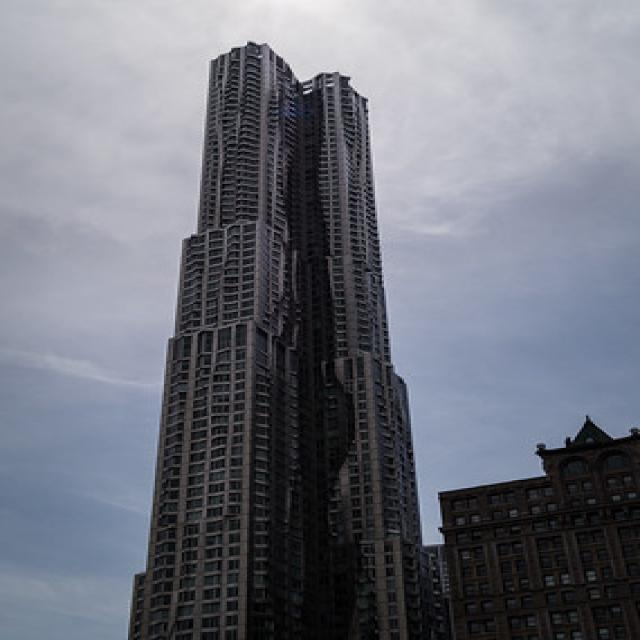building: (127, 37, 432, 640)
